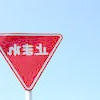Regulatory_sign_triangle: (1, 31, 66, 98)
